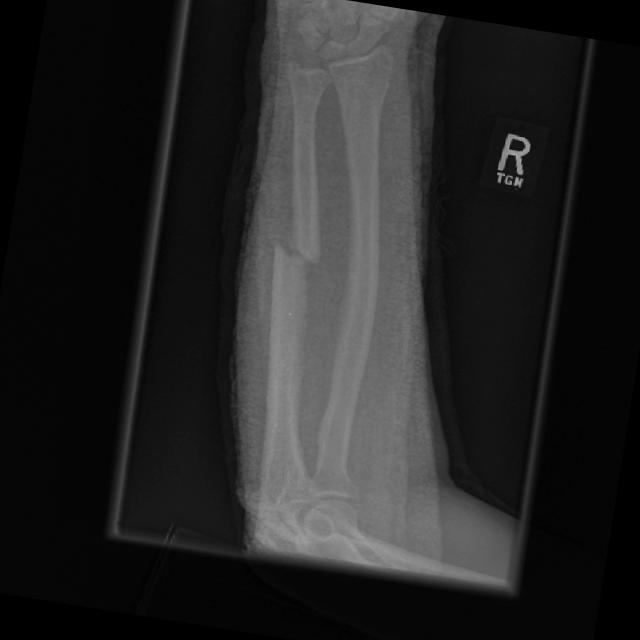forearm fracture: (250, 204, 351, 325)
